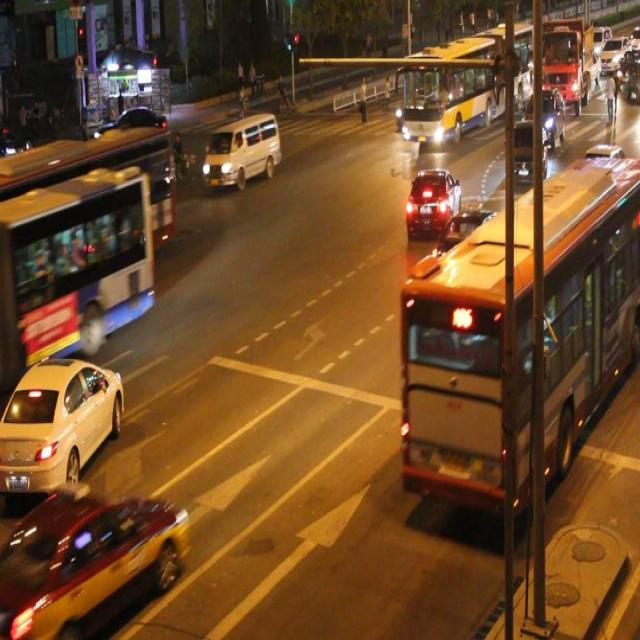car: (1, 489, 188, 640), (1, 358, 122, 493), (434, 205, 500, 274), (403, 165, 460, 238), (503, 120, 544, 188), (576, 142, 624, 193)
truck: (204, 111, 280, 190)
van: (398, 151, 640, 510), (1, 126, 174, 316), (1, 177, 154, 358)
